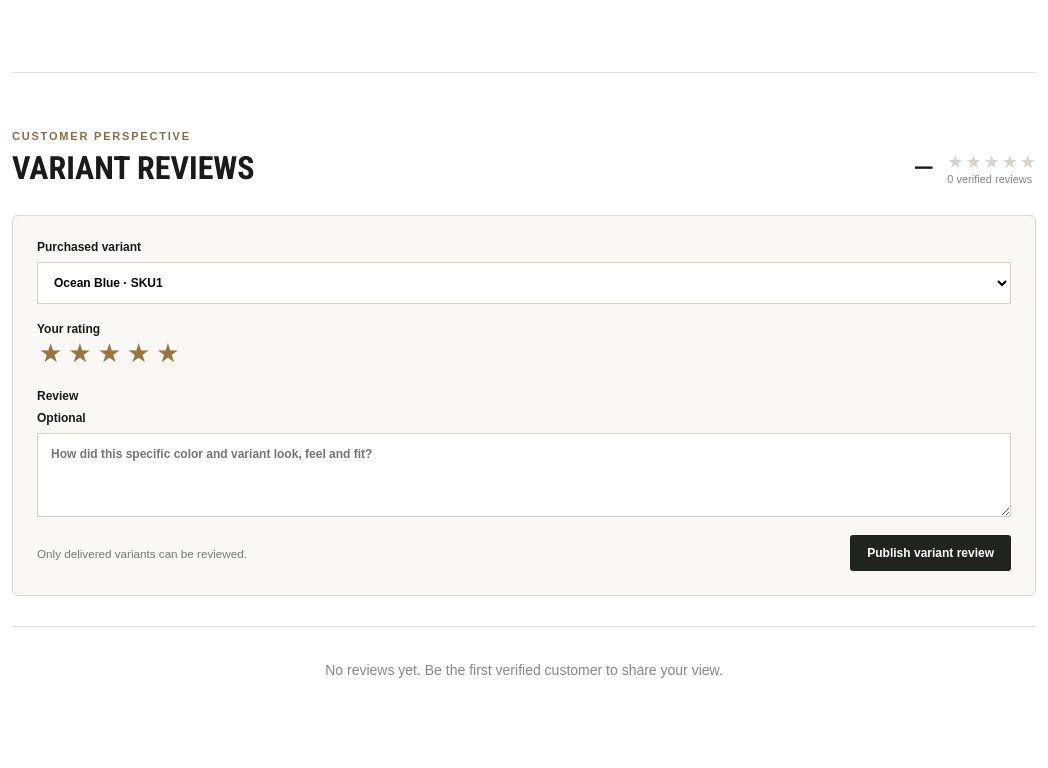
Scenario: a rejected submission is reported and nothing is silently swallowed
Click the button "Publish variant review" at (931, 553), box [850,535,1011,571]
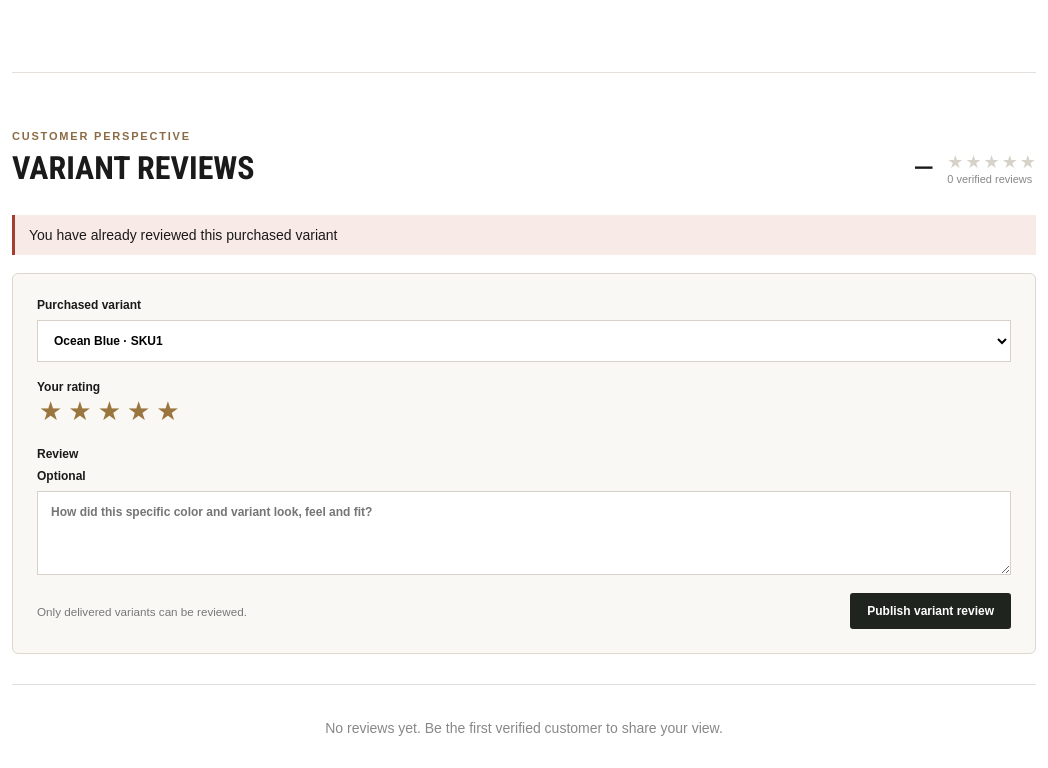
Check: the message reads "You have already reviewed this purchased variant", box [29,227,338,243]
